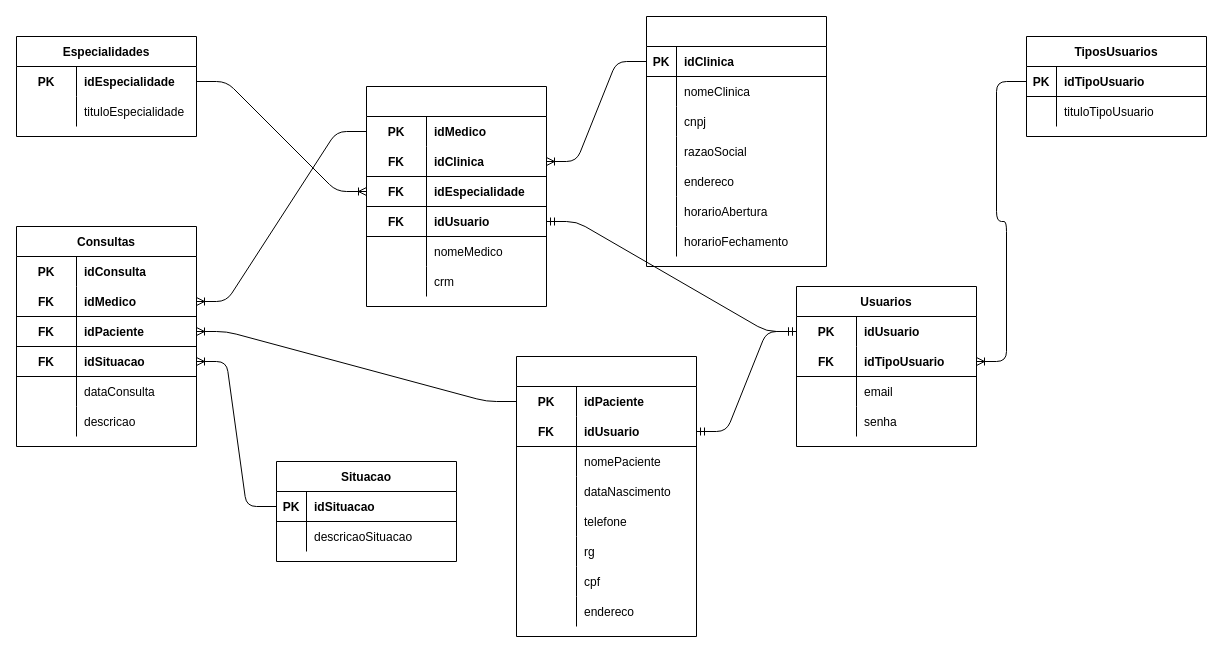
Image size: 1223x653. Some labels were removed from this diagram. Here are the shapes that lost their labels. From the top down, the box of each, then its label:
(646, 16, 826, 266): Clinicas
(366, 86, 546, 306): Medicos
(516, 356, 696, 636): Pacientes
